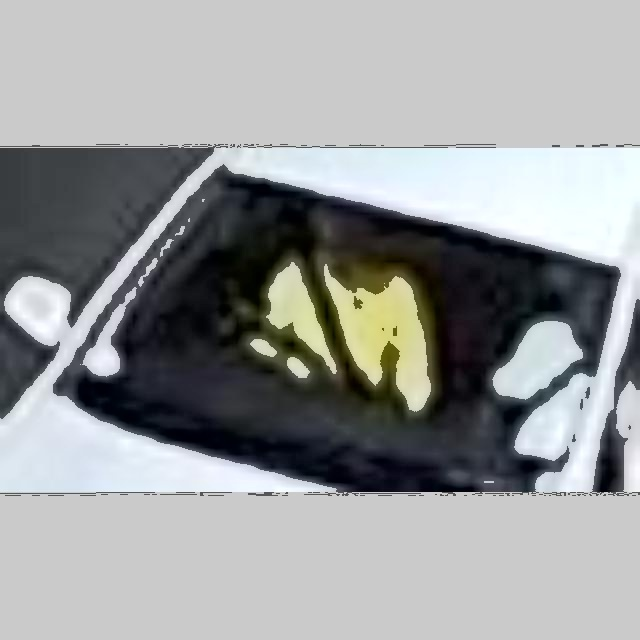pakai: (255, 203, 420, 410), (468, 286, 619, 437)
